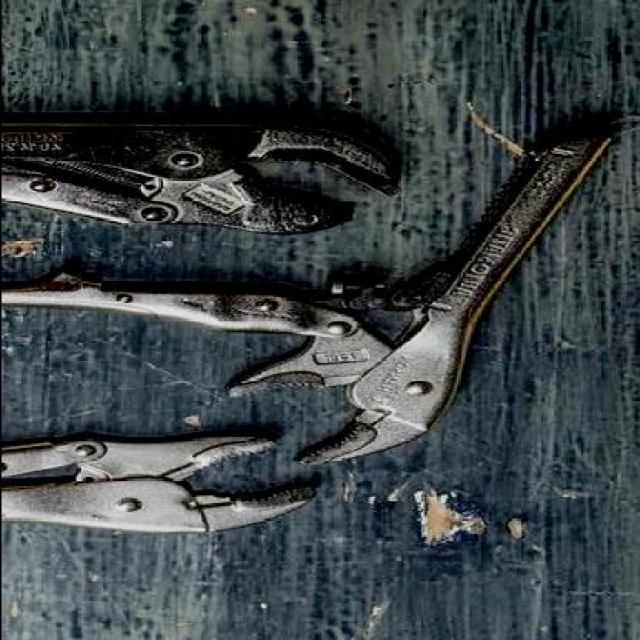pliers: (0, 114, 398, 234)
